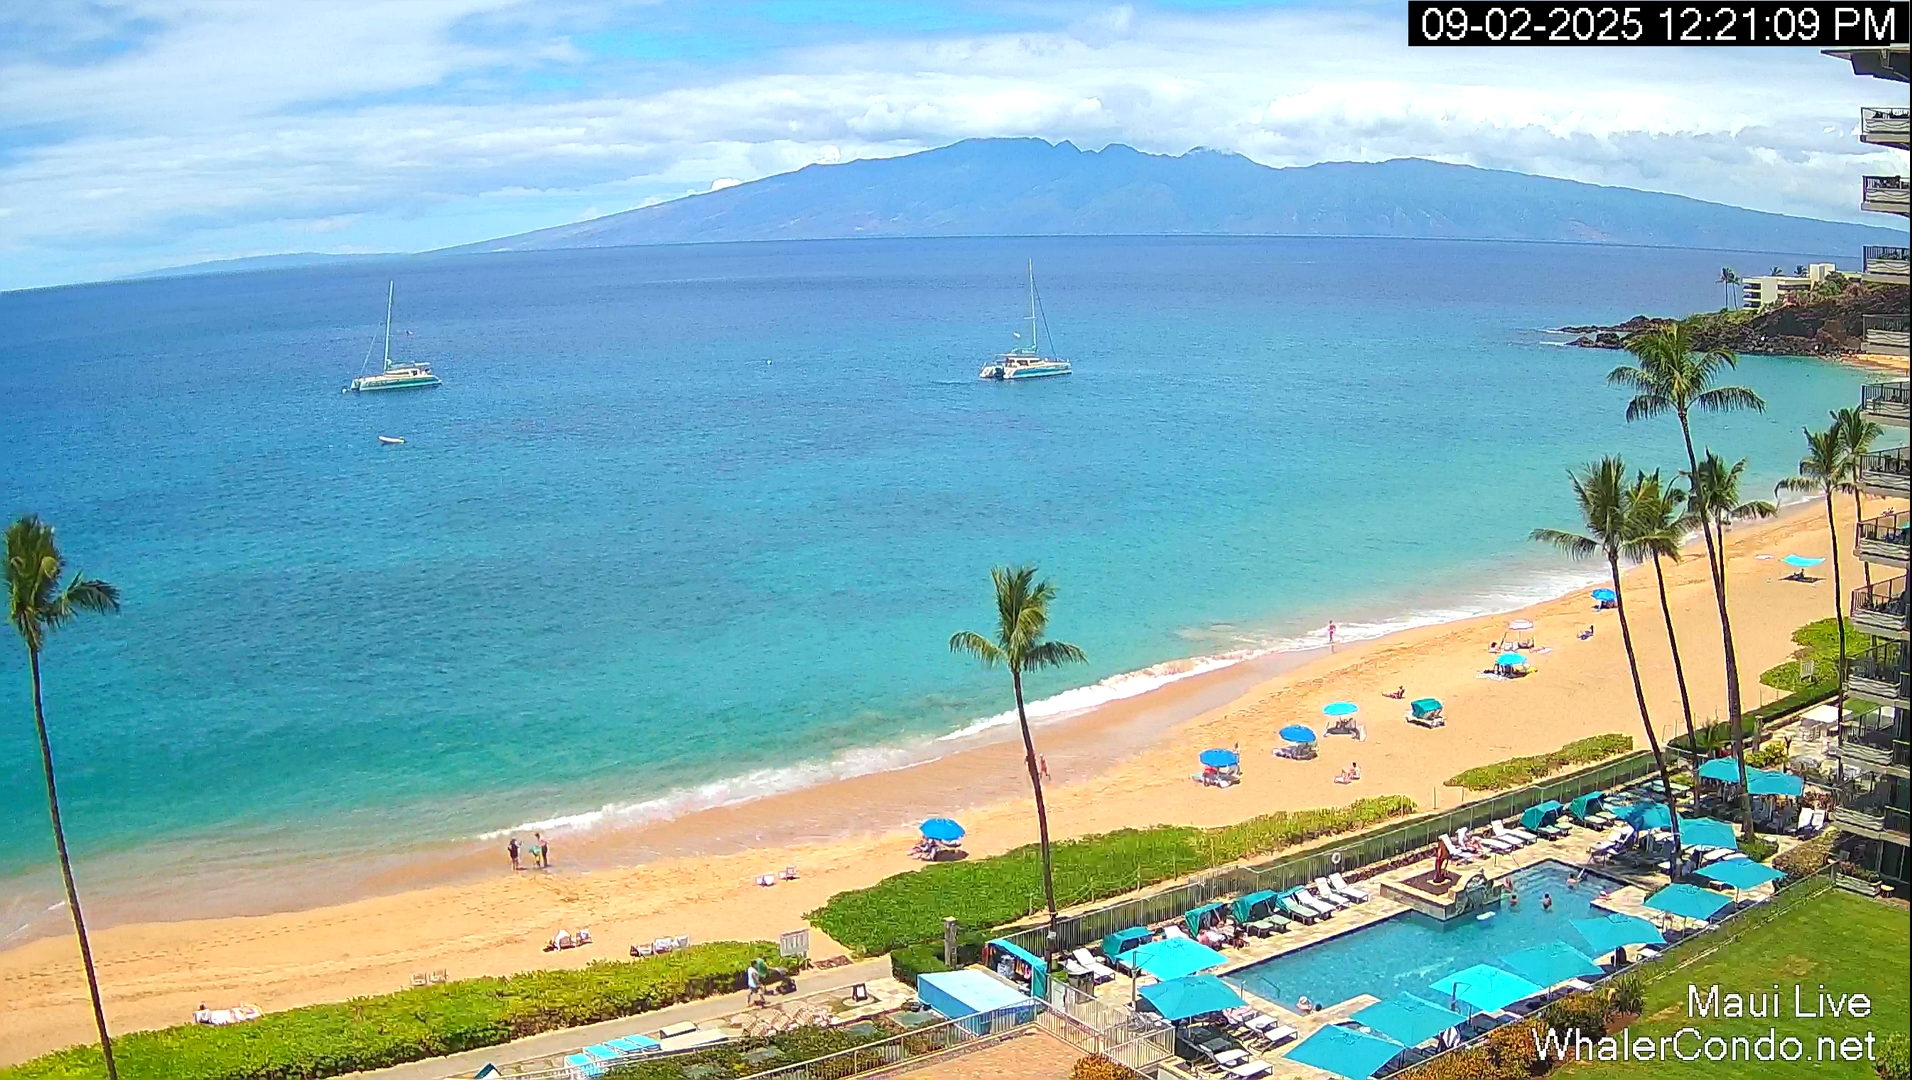boat: (979, 258, 1073, 381), (349, 280, 442, 393), (378, 435, 406, 444)
person: (947, 563, 1056, 640), (745, 960, 766, 1007), (534, 833, 548, 867), (507, 838, 521, 871), (1341, 761, 1360, 781), (1381, 685, 1406, 699), (529, 846, 541, 869), (1566, 873, 1578, 891), (1327, 620, 1336, 643), (1542, 893, 1552, 912), (629, 944, 640, 957)
